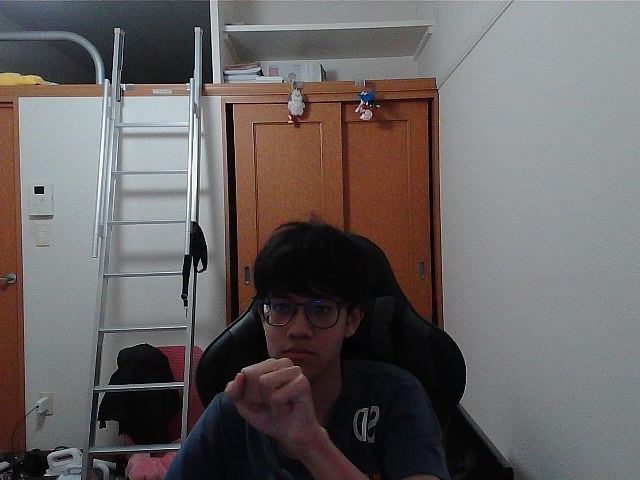closed_palm: (232, 368, 301, 433)
